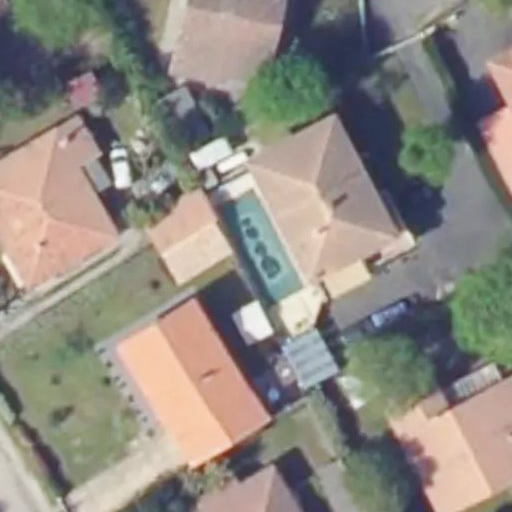pool: (213, 189, 299, 299)
